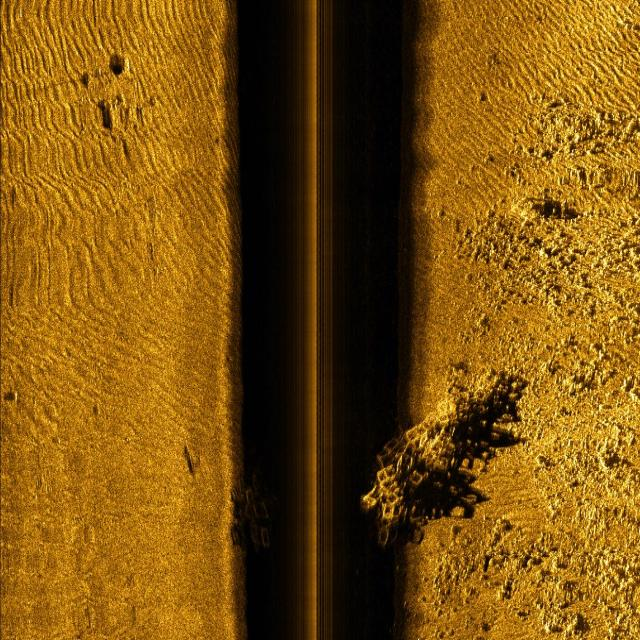artificial reef: (364, 364, 497, 560), (232, 456, 286, 563)
